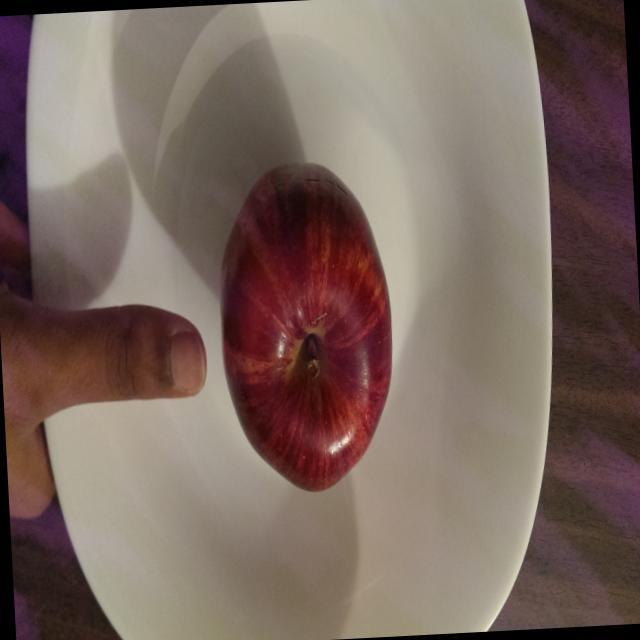Apple: (207, 152, 408, 498)
Finger: (85, 296, 212, 408)
